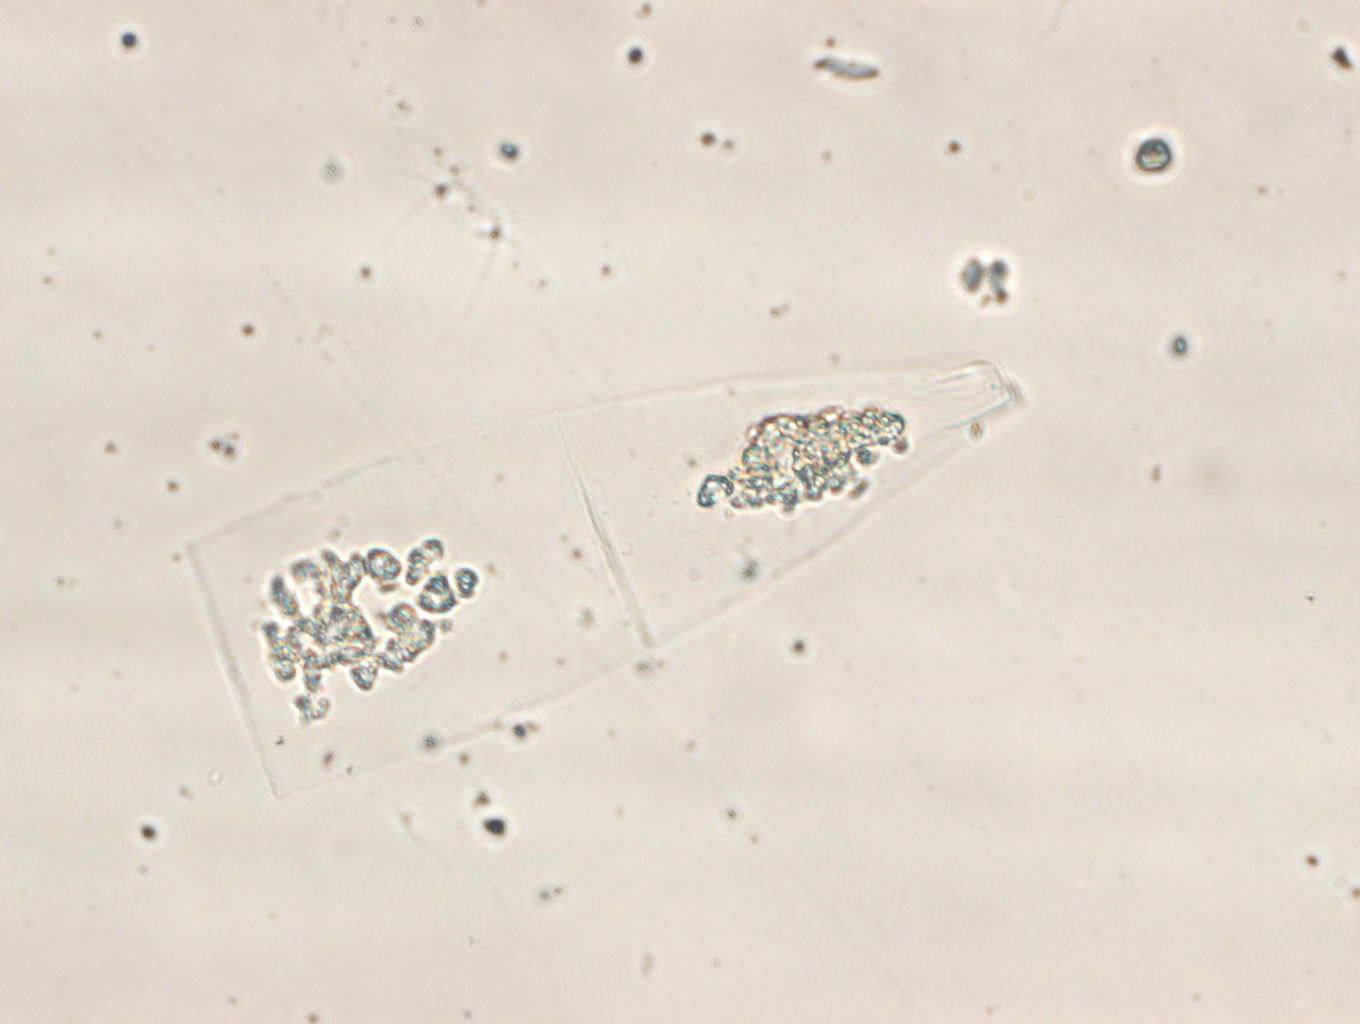helicotheca: (186, 362, 1025, 793)
